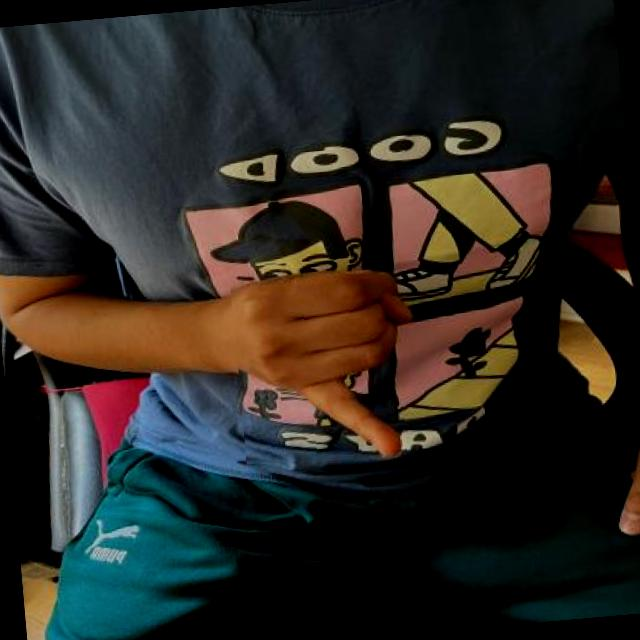Z: (228, 252, 429, 468)
